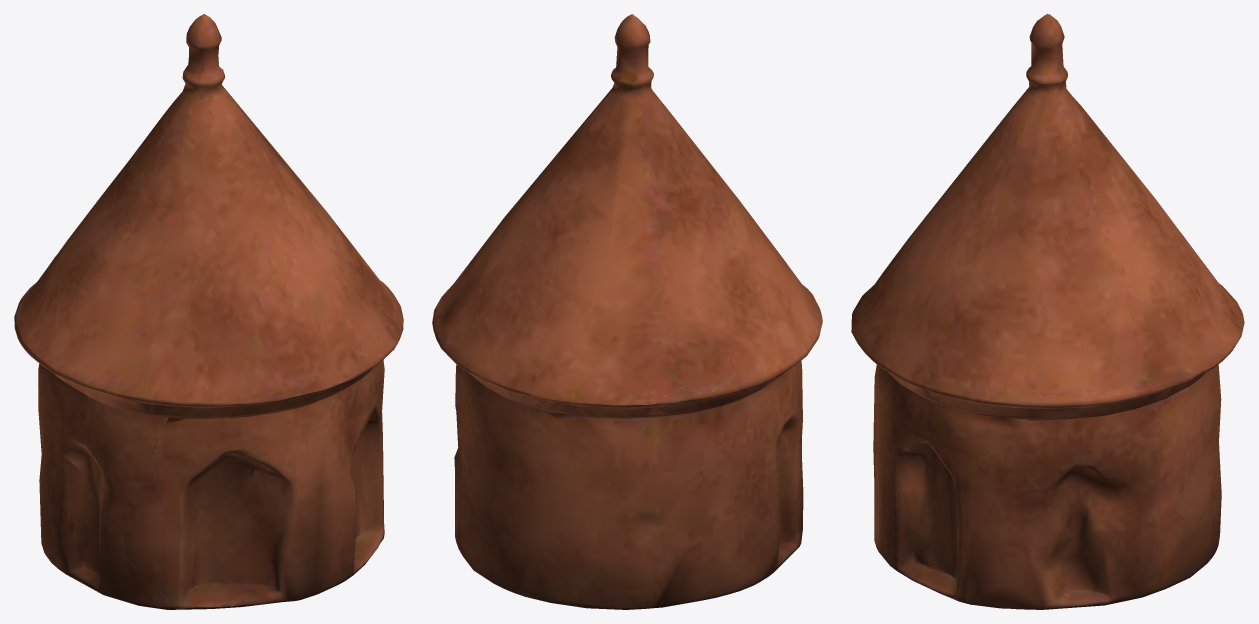
The model's file is plain-terracotta-turret-top-v001.glb.
3 views of the same model, side by side, from view 1: azimuth 30°, elevation 25°; view 2: azimuth 150°, elevation 25°; view 3: azimuth 270°, elevation 25° (orthographic).
Parts seen in each view (by area): view 1: plain-terracotta-turret-top; view 2: plain-terracotta-turret-top; view 3: plain-terracotta-turret-top.
Boxes of the visible parts, x1,y1,x2,y2 form: plain-terracotta-turret-top: (14,14,403,609); plain-terracotta-turret-top: (432,14,822,609); plain-terracotta-turret-top: (851,14,1244,609).
Bounding box in the file's own units: 1.48 × 2.21 × 1.5.
1 material, 1 textured.
